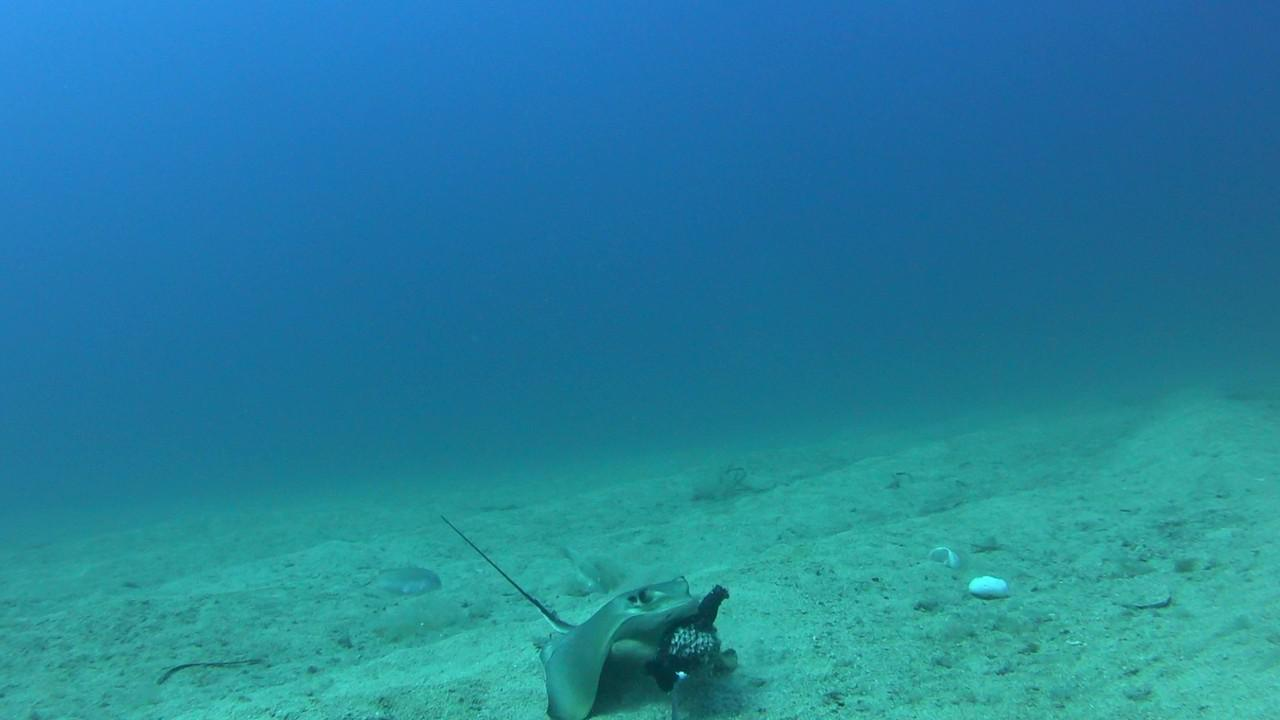myliobatis: (438, 499, 701, 719)
raor: (342, 566, 445, 604)
